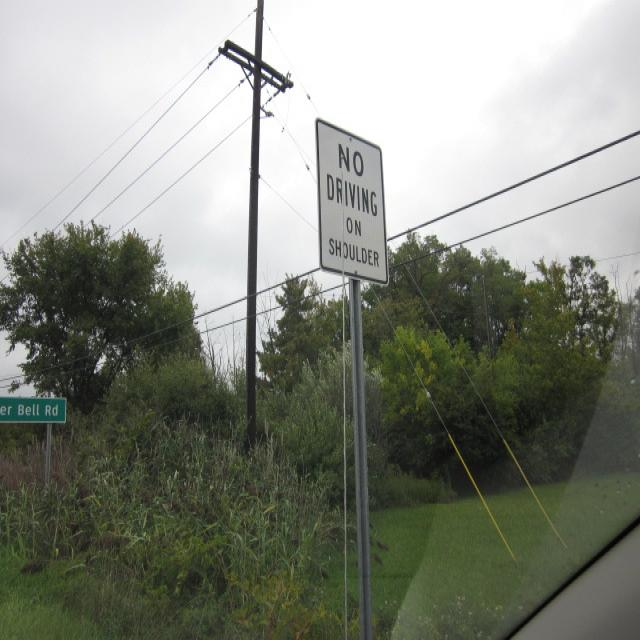regulatory: (314, 116, 393, 282)
